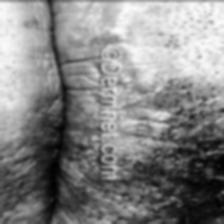Non-Cancerous Skin Condition: (74, 134, 102, 168), (148, 109, 174, 127), (118, 84, 140, 104)
